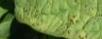Tomato Septoria leaf spot: (11, 0, 102, 39)
